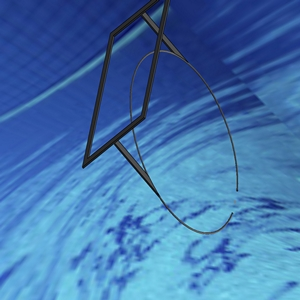circle: (81, 0, 240, 234)
